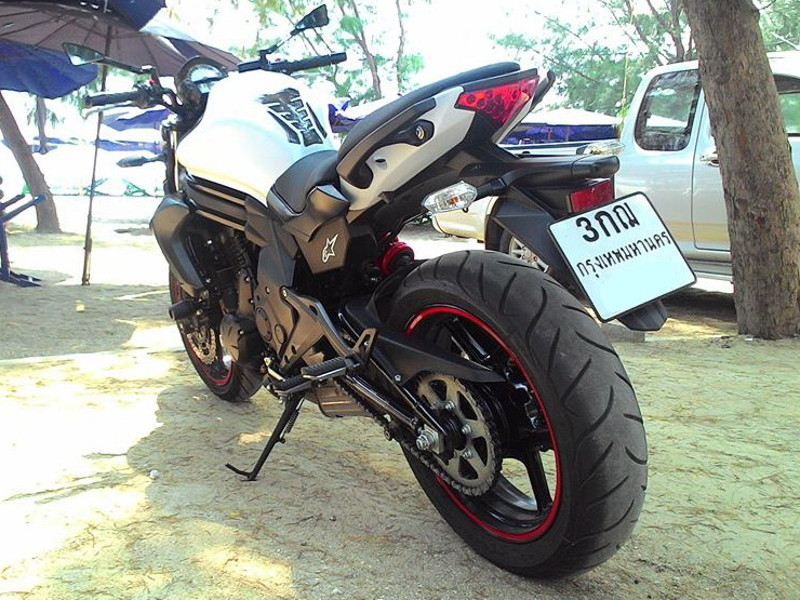motorcycle: (61, 5, 694, 583)
